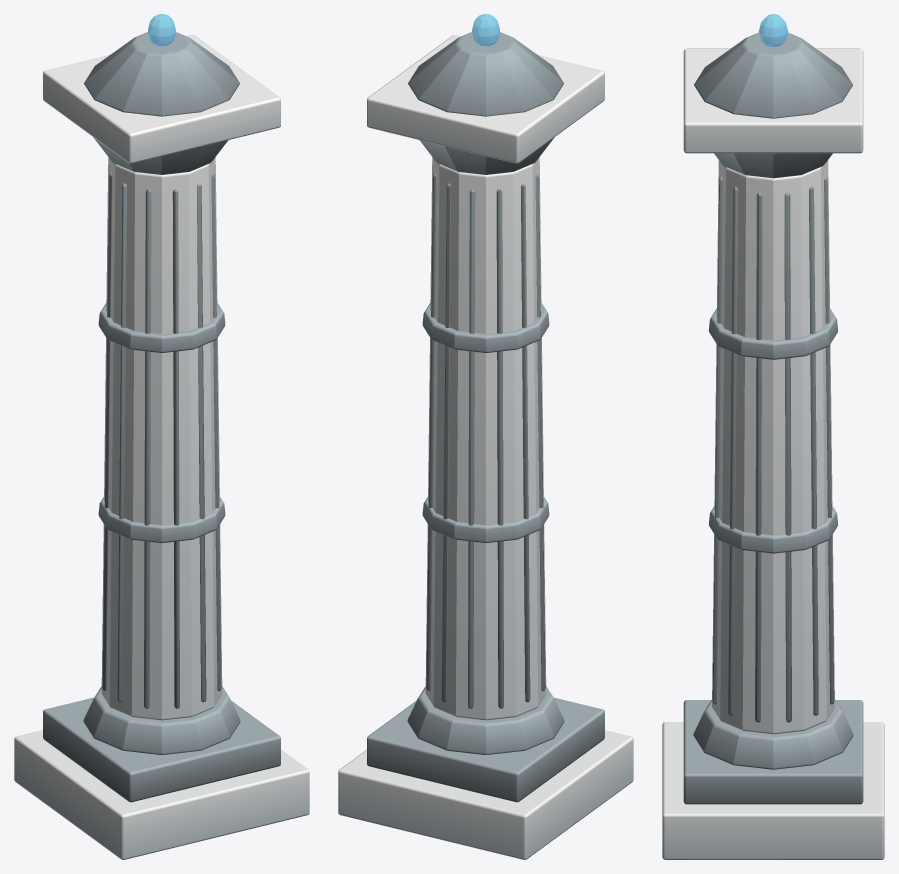
File: cloud_pillar.glb
The picture shows the model from 3 angles, left to right: view 1: azimuth 30°, elevation 25°; view 2: azimuth 150°, elevation 25°; view 3: azimuth 270°, elevation 25°; orthographic projection.
Visible parts, largest first — view 1: cloud_pillar; view 2: cloud_pillar; view 3: cloud_pillar.
Part boxes in pixels (bbox=[...]): cloud_pillar: bbox=[14, 14, 309, 859]; cloud_pillar: bbox=[338, 14, 633, 859]; cloud_pillar: bbox=[662, 14, 884, 859].
Size of the model in its own units: 2.6 by 10.31 by 2.6.
Materials: 2 (2 with a texture image).
